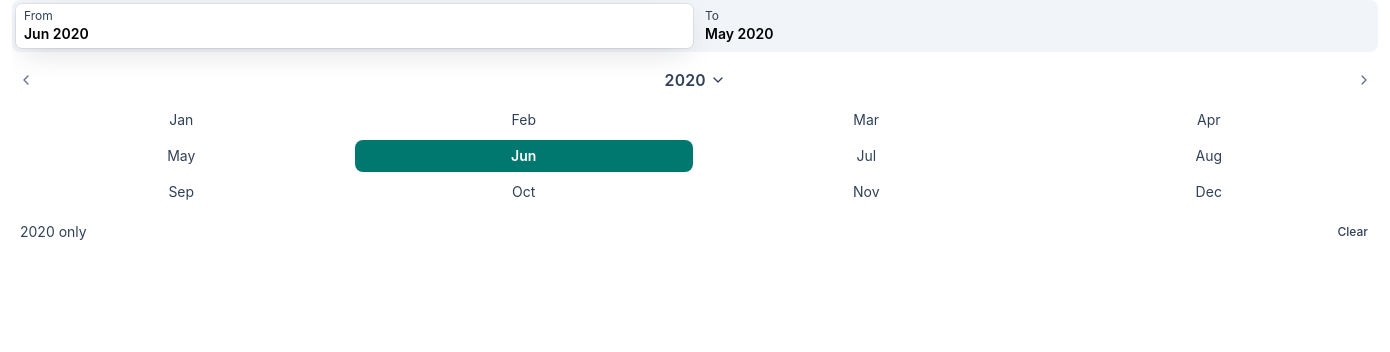
it: DateRangeForm negative scenarios › warns when the end is before the start, and not when they are equal
The image size is (1390, 352).
Click the tab "To May 2020" at point(739, 34), box top-left (697, 4), bottom-right (1374, 48)
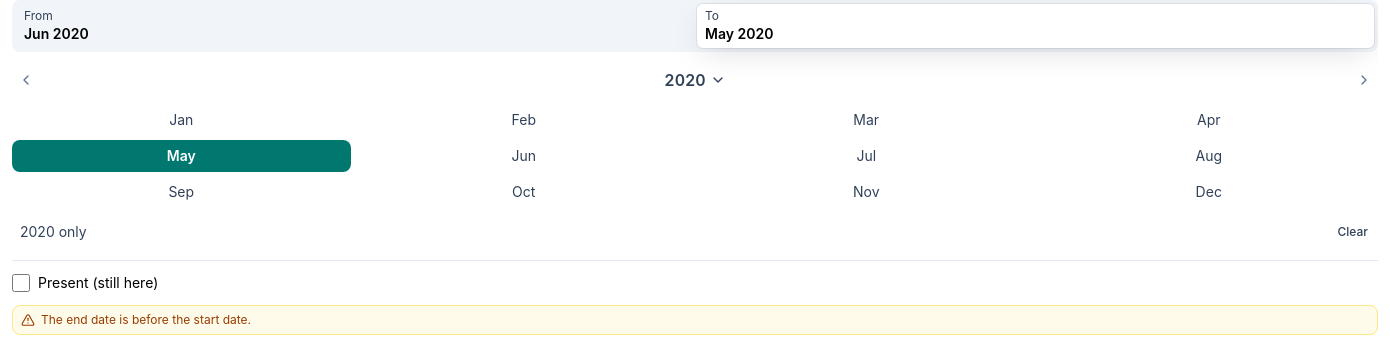
expect the message "The end date is before the start date." is shown: met, box top-left (12, 305), bottom-right (1378, 335)
